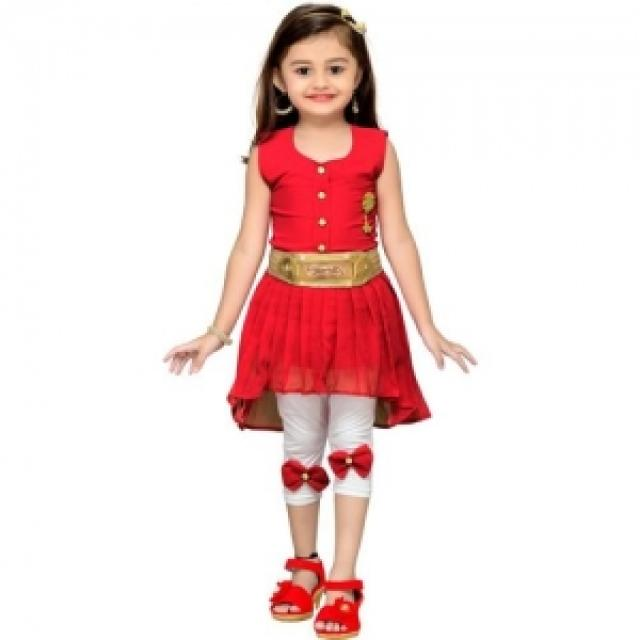child: (162, 2, 499, 638)
